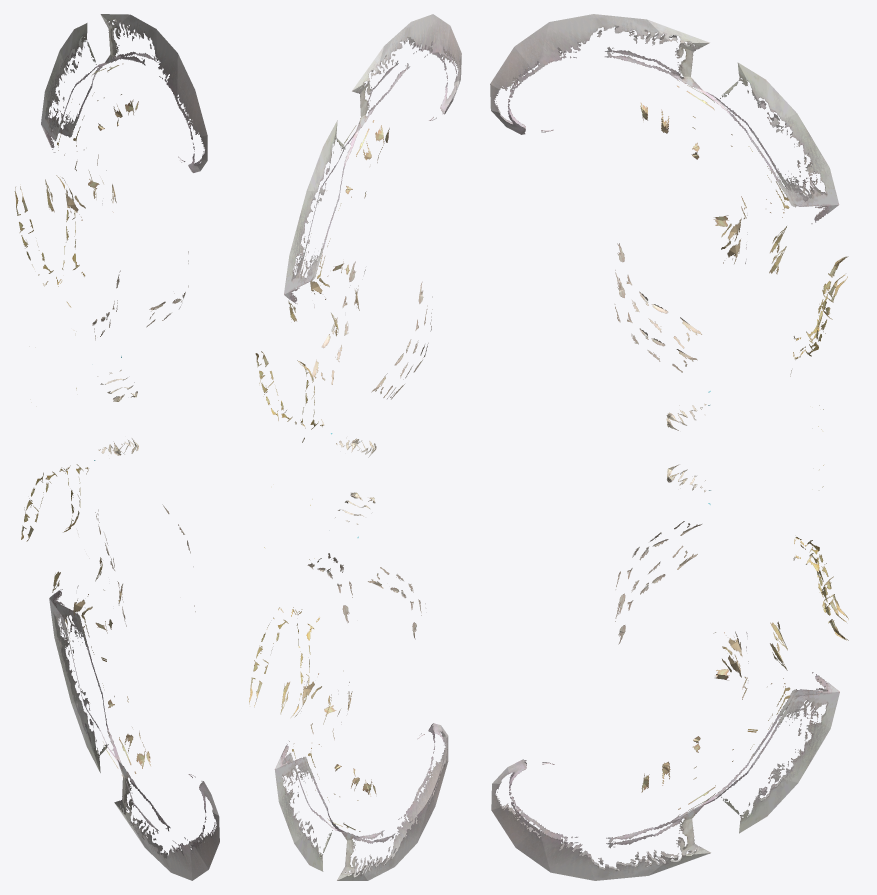
3 views of the same model, side by side, from view 1: azimuth 30°, elevation 25°; view 2: azimuth 150°, elevation 25°; view 3: azimuth 270°, elevation 25° (orthographic).
Size of the model in its own units: 0.3782 by 3.09 by 1.21.
1 material, 1 textured.
